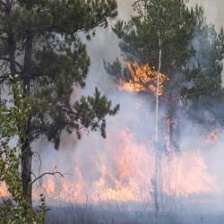fire: (43, 165, 214, 200), (120, 64, 169, 96)
smoke: (68, 103, 207, 151)
